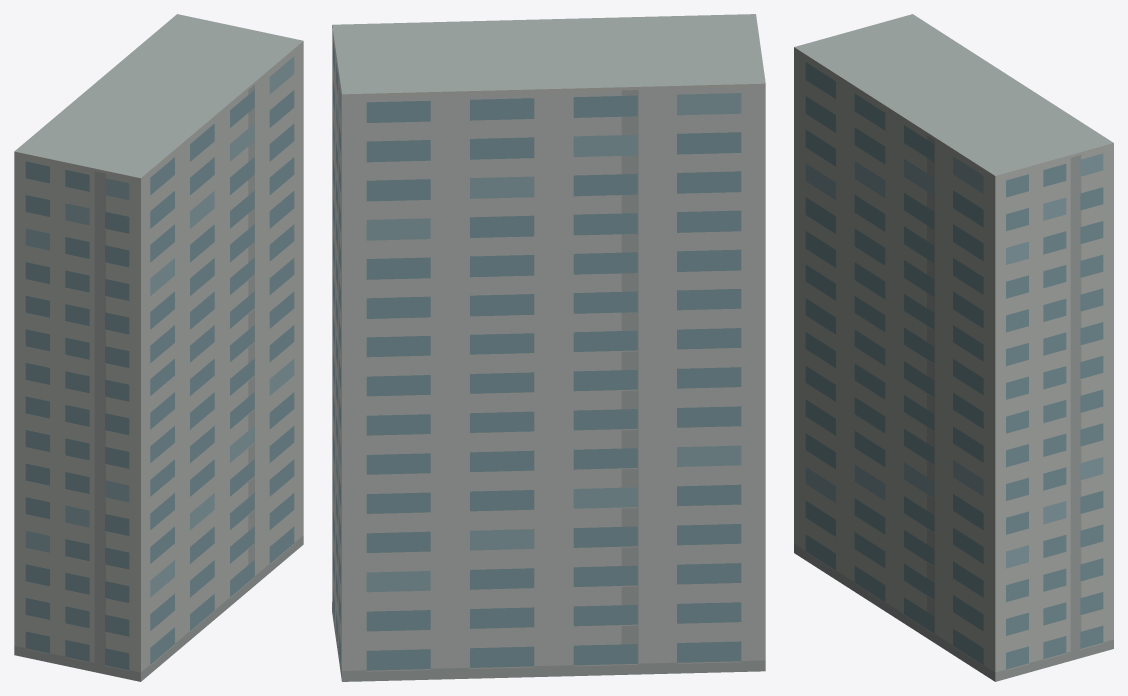
File: residential-6207e465-b3bc-4f60-a012-ba926596cd95.glb
3 views of the same model, side by side, from view 1: azimuth 30°, elevation 25°; view 2: azimuth 150°, elevation 25°; view 3: azimuth 270°, elevation 25° (orthographic). The views are drawn at different scales.
Visible parts, largest first — view 1: residential-6207e465-b3bc-4f60-a012-ba926596cd95.tmp; view 2: residential-6207e465-b3bc-4f60-a012-ba926596cd95.tmp; view 3: residential-6207e465-b3bc-4f60-a012-ba926596cd95.tmp.
Boxes of the visible parts, x1,y1,x2,y2 form: residential-6207e465-b3bc-4f60-a012-ba926596cd95.tmp: (14, 14, 303, 681); residential-6207e465-b3bc-4f60-a012-ba926596cd95.tmp: (332, 14, 765, 681); residential-6207e465-b3bc-4f60-a012-ba926596cd95.tmp: (794, 14, 1113, 681).
Bounding box in the file's own units: 31.43 × 45.75 × 26.23.
